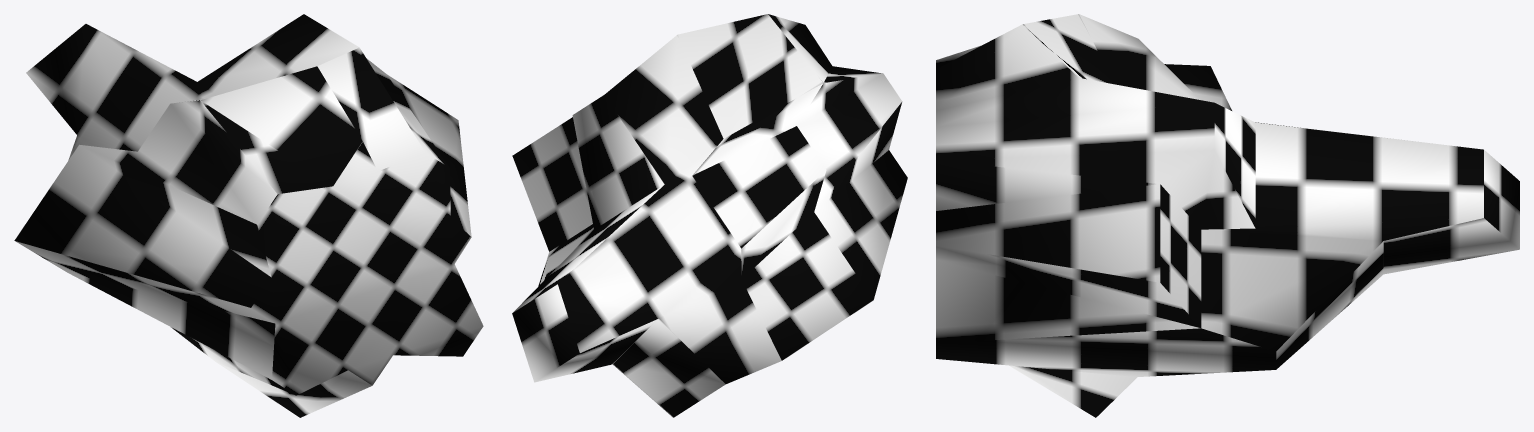
Rendered from initlitr31.dae.
The picture shows the model from 3 angles, left to right: view 1: azimuth 30°, elevation 25°; view 2: azimuth 150°, elevation 25°; view 3: azimuth 270°, elevation 25°; orthographic projection. The views are drawn at different scales.
Parts seen in each view (by area): view 1: item; view 2: item; view 3: item.
Boxes of the visible parts, x1=… form: item: x1=14, y1=14, x2=483, y2=417; item: x1=512, y1=14, x2=907, y2=417; item: x1=936, y1=14, x2=1519, y2=417.
Size of the model in its own units: 1.33 by 1.61 by 1.17.
1 material, 1 textured.
